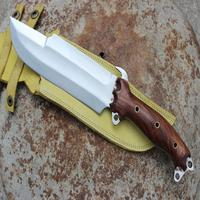knife: (5, 12, 195, 169)
